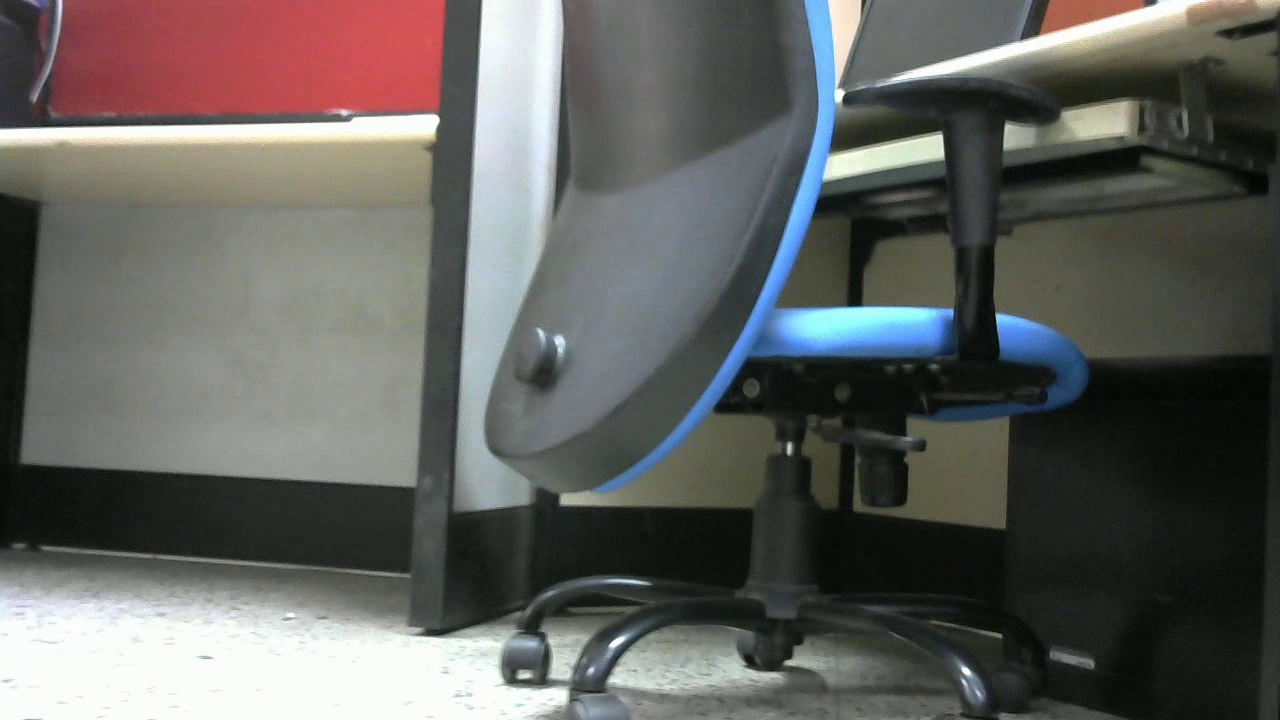chair: (465, 1, 1092, 720)
